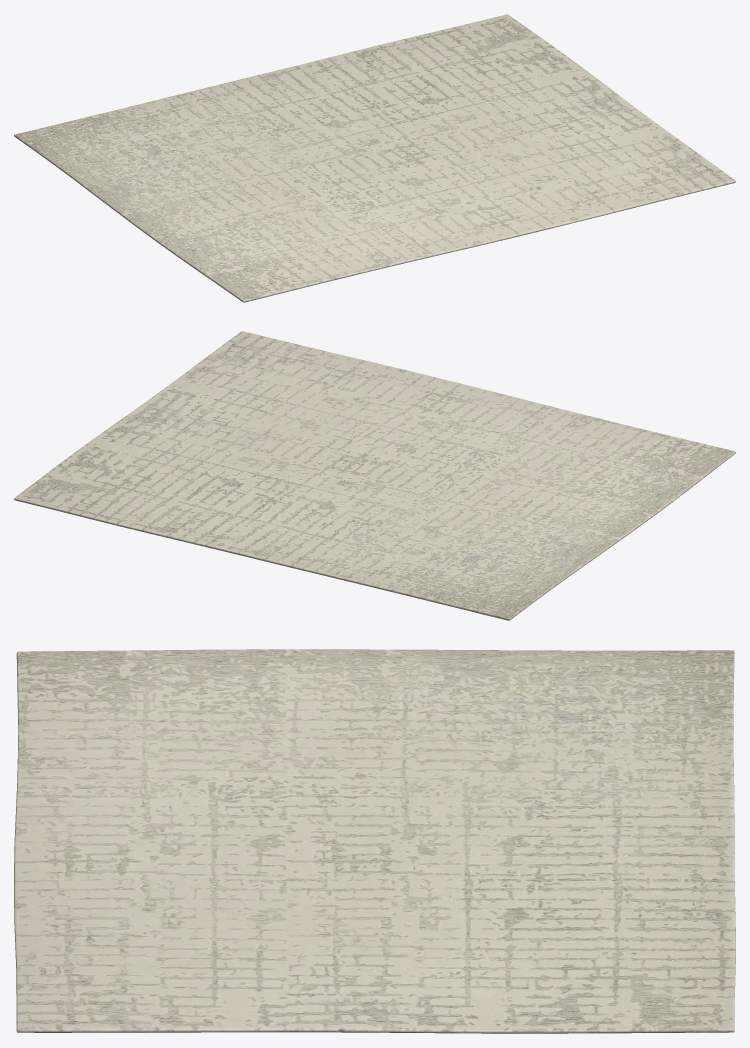
Rendered from B0735THVQK.glb.
3 renders of one model, top to bottom at view 1: azimuth 30°, elevation 25°; view 2: azimuth 150°, elevation 25°; view 3: azimuth 270°, elevation 25°, orthographic. The views are drawn at different scales.
Visible parts, largest first — view 1: RootNode; view 2: RootNode; view 3: RootNode.
Boxes of the visible parts, left/top/right/bottom form: RootNode: left=14, top=14, right=735, bottom=302; RootNode: left=14, top=331, right=735, bottom=620; RootNode: left=14, top=649, right=735, bottom=1033.
Size of the model in its own units: 3.06 by 0.0142 by 2.45.
1 material, 1 textured.
